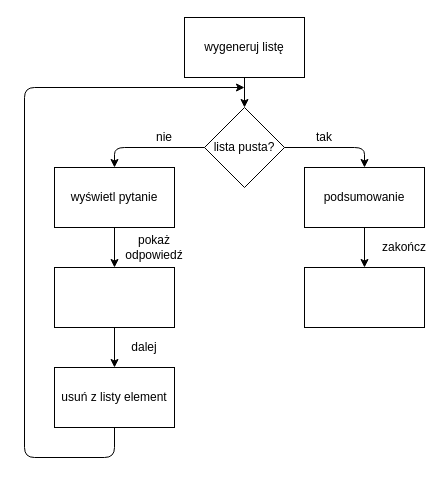
Some shapes in this 444 by 483 pixel diagram are drawn without their labels. Here are the shapes that lost their labels. From the top down, the box of each, then its label:
(54, 266, 174, 328): wyświetl odpowiedź
(304, 266, 424, 328): powrót do zakładki nauka
